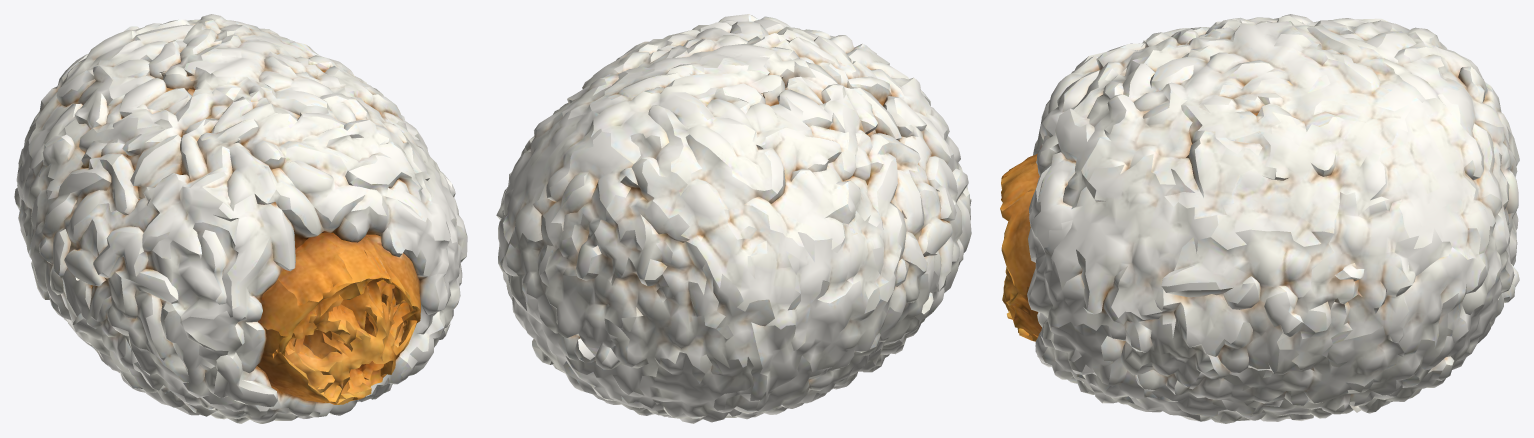
Rendered from cifan.glb.
3 renders of one model, left to right at view 1: azimuth 30°, elevation 25°; view 2: azimuth 150°, elevation 25°; view 3: azimuth 270°, elevation 25°, orthographic. The views are drawn at different scales.
Visible parts, largest first — view 1: world; view 2: world; view 3: world.
Boxes of the visible parts, box(x1,y1,x2,y2) form: world: box(14, 14, 467, 423); world: box(496, 14, 971, 423); world: box(1000, 14, 1519, 423).
Bounding box in the file's own units: 0.09 × 0.0762 × 0.1.
1 material, 1 textured.
